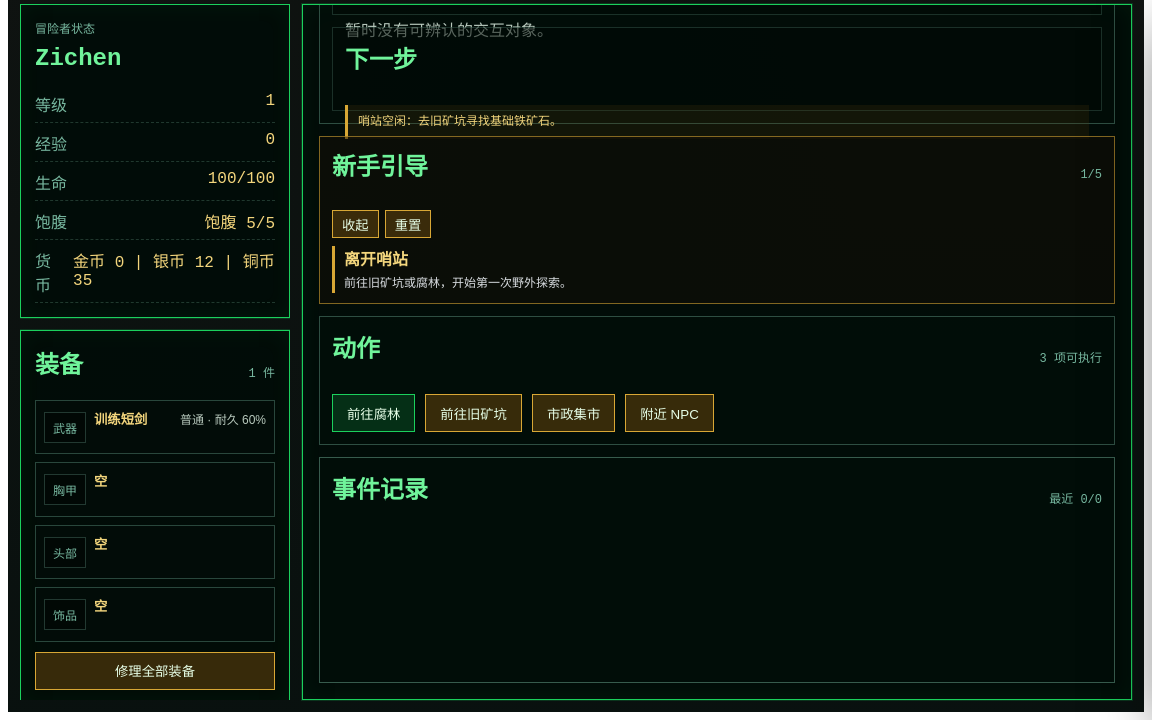
it: GameShell › opens NPC dialogue and sends one free-text message
The width and height of the screenshot is (1152, 720).
(page scrolled)
Click the button "附近 NPC" at (670, 413), box [625,394,714,432]
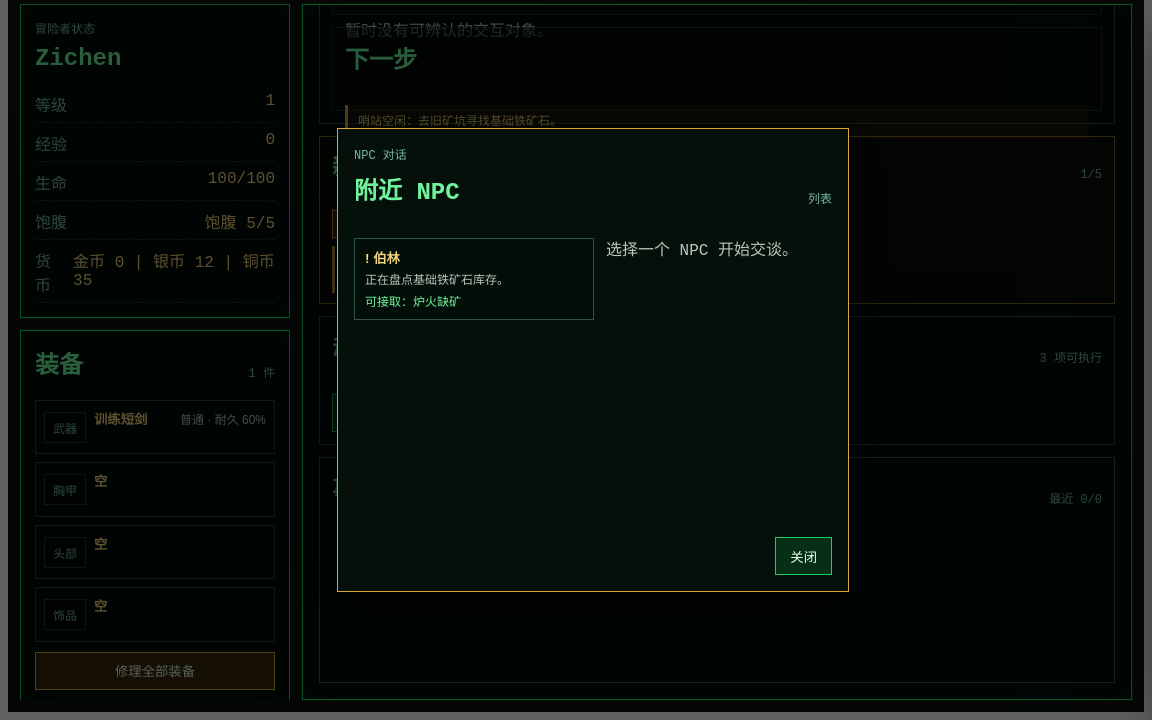
Expected: the dialog named "附近 NPC 对话" is shown, [337,128,849,592]
Expected: the button "! 伯林 正在盘点基础铁矿石库存。 可接取：炉火缺矿" is shown
Expected: the text "可接取：炉火缺矿" is shown once, [365,295,461,309]
Click the button "! 伯林 正在盘点基础铁矿石库存。 可接取：炉火缺矿" at (474, 279), box [354,238,594,320]
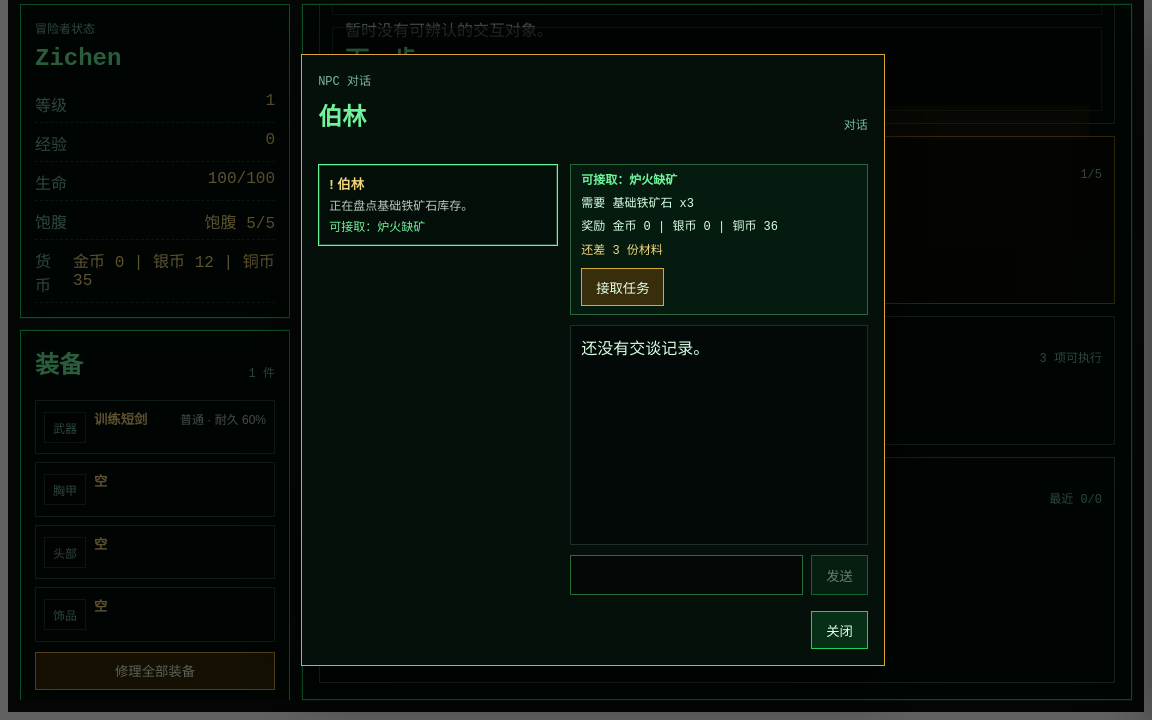
Expected: the text "可接取：炉火缺矿" is shown 2 times, [329,220,425,234]; [581,174,677,188]
Expected: the list item "还没有交谈记录。" is shown, [570,325,868,545]
Expected: the text "对话" is shown, [844,115,868,133]
Type "最近缺什么？" into the field named "对 NPC 说" at (687, 575), box [570,555,803,595]
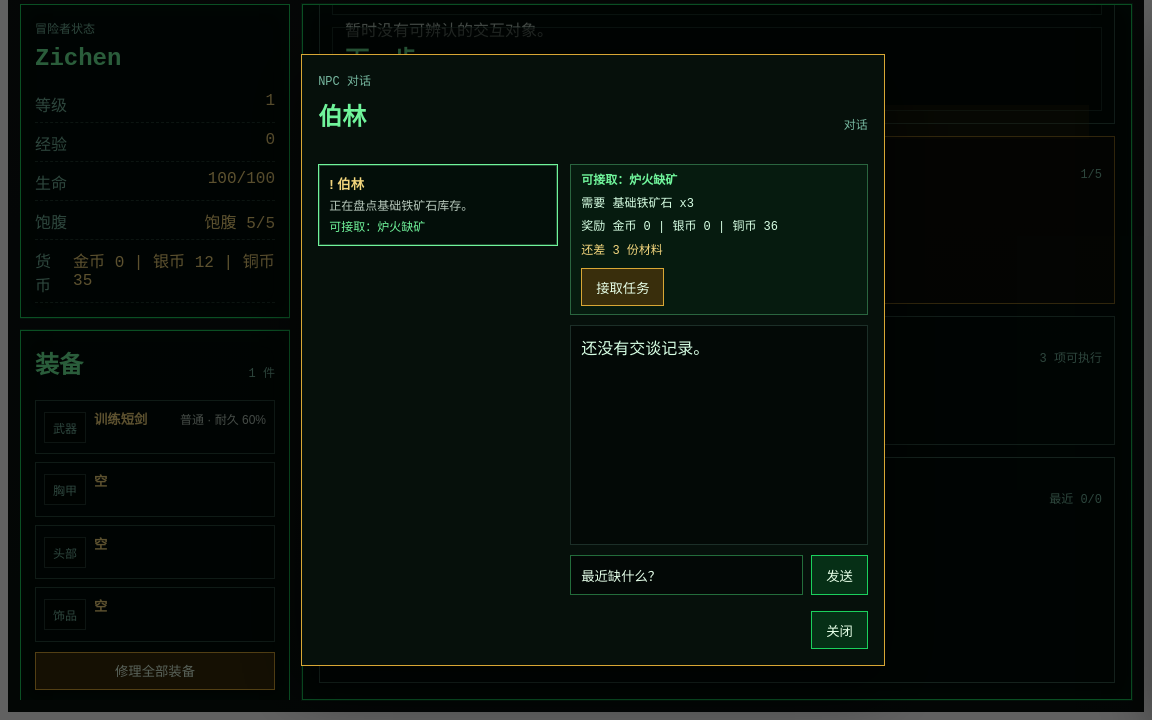
Click the button "发送" at (840, 575), box [811,555,868,595]
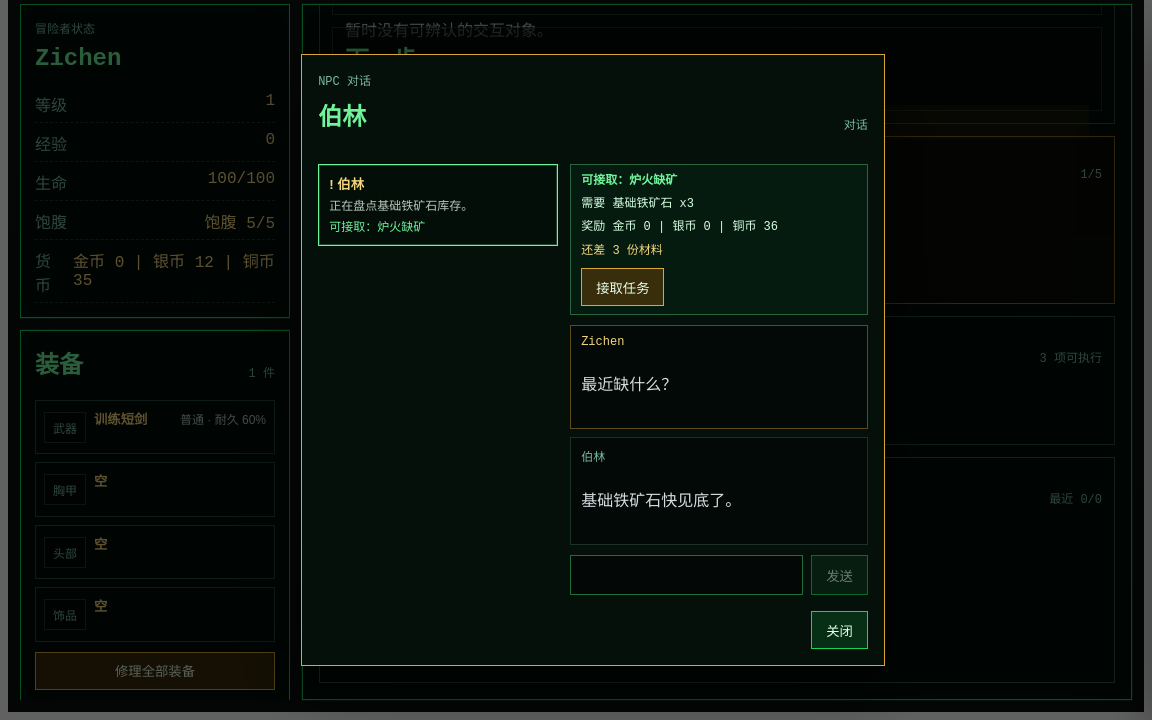
Expected: the text "基础铁矿石快见底了。" is shown, [581,493,741,511]
